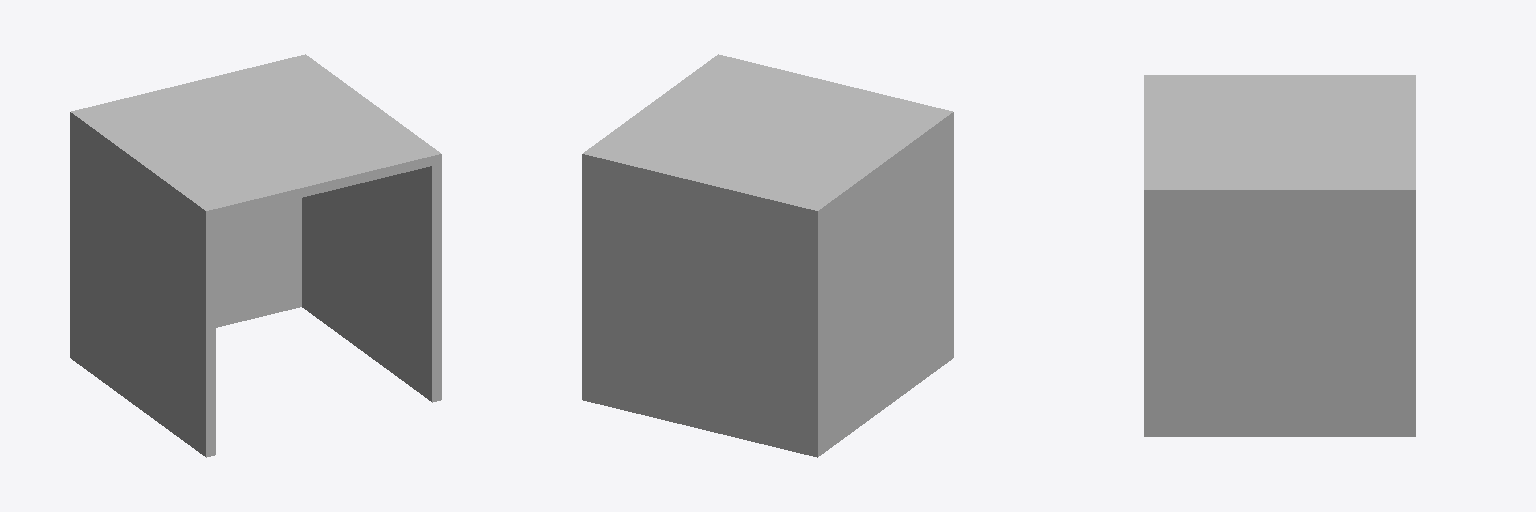
The model's file is coridor_end_floorless.obj.
3 views of the same model, side by side, from view 1: azimuth 30°, elevation 25°; view 2: azimuth 150°, elevation 25°; view 3: azimuth 270°, elevation 25° (orthographic).
Parts seen in each view (by area): view 1: pillar, ceiling, Wall, wall; view 2: wall, pillar, ceiling, Wall; view 3: Wall, ceiling, wall.
Part boxes in pixels (x1,y1,x2,y2): pillar: (70,109,215,457); ceiling: (71,55,441,220); Wall: (297,54,441,402); wall: (70,56,304,360); wall: (582,152,822,456); pillar: (808,111,953,457); ceiling: (583,55,953,218); Wall: (582,54,726,400); Wall: (1144,186,1415,436); ceiling: (1144,75,1415,199); wall: (1405,76,1415,436).
Size of the model in its own units: 5 by 5 by 5.